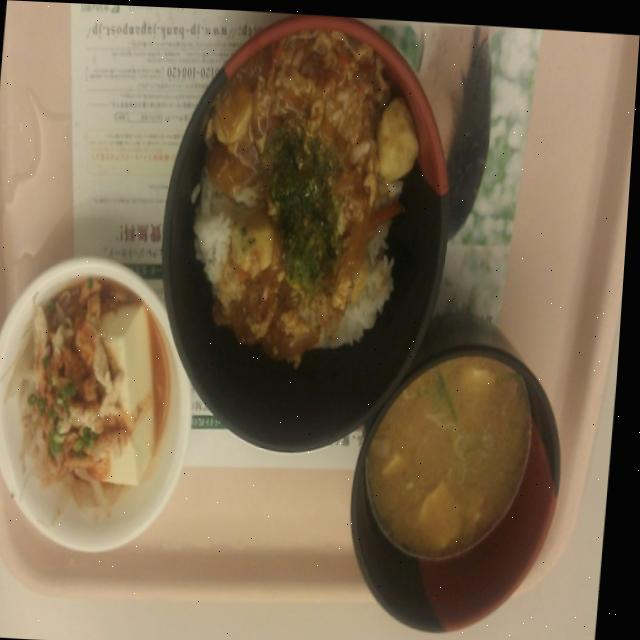汤锅炖物: (357, 345, 581, 630)
豆腐料理: (0, 205, 209, 532)
